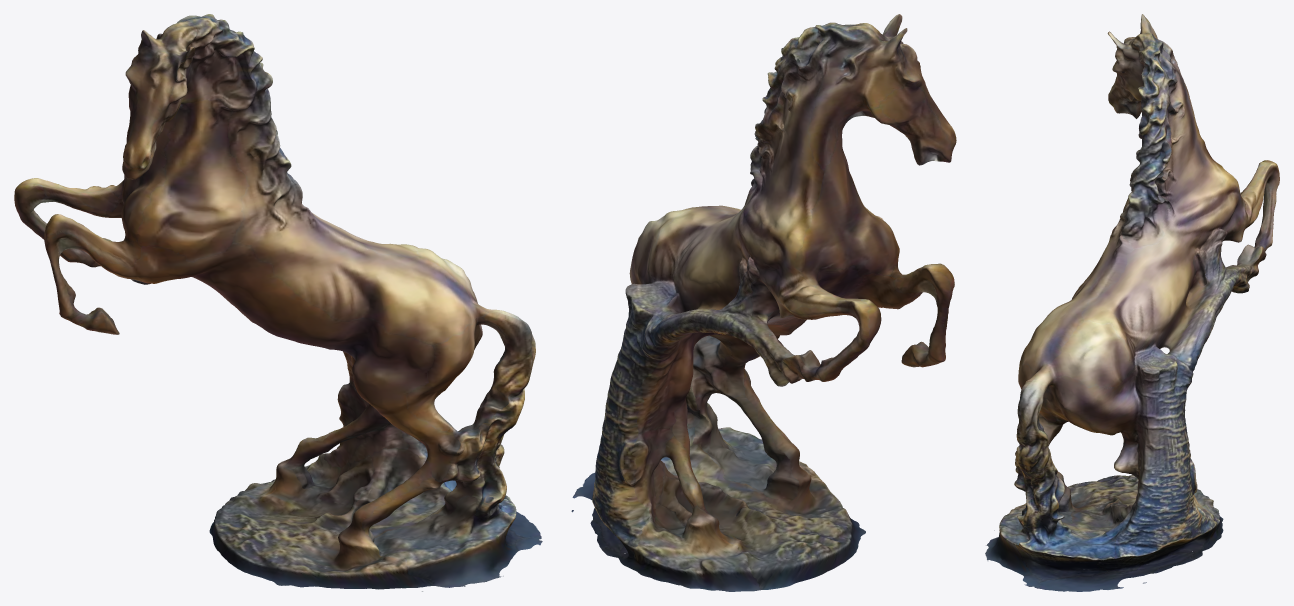
Rendered from bronze_horse.glb.
3 renders of one model, left to right at view 1: azimuth 30°, elevation 25°; view 2: azimuth 150°, elevation 25°; view 3: azimuth 270°, elevation 25°, orthographic. The views are drawn at different scales.
Visible parts, largest first — view 1: Object_2; view 2: Object_2; view 3: Object_2.
Boxes of the visible parts, box(x1,y1,x2,y2) form: Object_2: box(14, 14, 542, 591); Object_2: box(571, 14, 956, 591); Object_2: box(985, 14, 1279, 591).
Bounding box in the file's own units: 15.65 × 19.57 × 11.85.
Materials: 1 (1 with a texture image).
